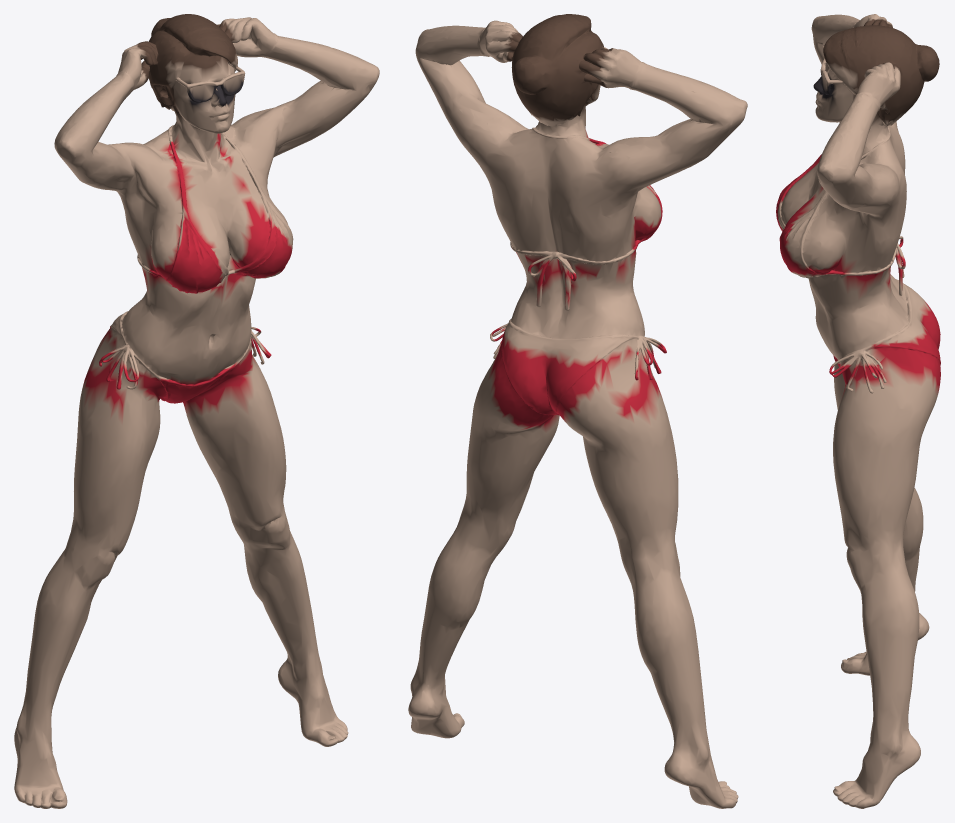
The model's file is estatua_hi.glb.
3 renders of one model, left to right at view 1: azimuth 30°, elevation 25°; view 2: azimuth 150°, elevation 25°; view 3: azimuth 270°, elevation 25°, orthographic. The views are drawn at different scales.
Parts seen in each view (by area): view 1: estatua; view 2: estatua; view 3: estatua.
Part boxes in pixels (bbox=[...]): estatua: bbox=[14, 14, 379, 808]; estatua: bbox=[408, 14, 747, 808]; estatua: bbox=[776, 14, 940, 808].
Bounding box in the file's own units: 0.8046 × 1.7 × 0.3564.
